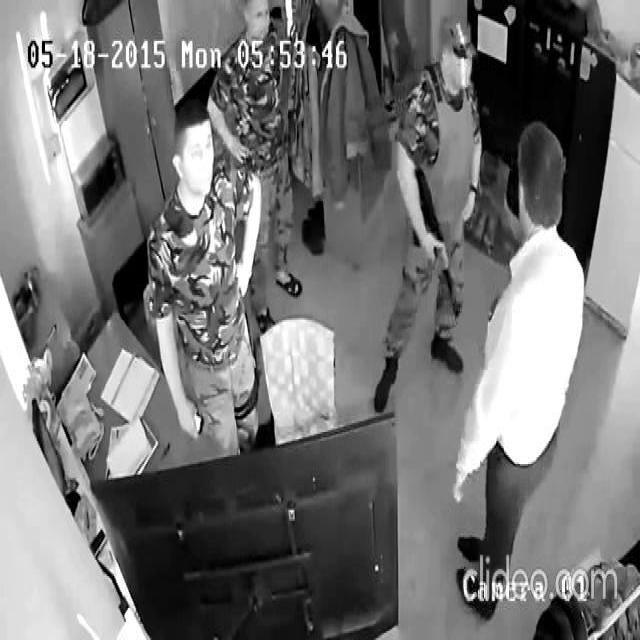pistol: (408, 159, 464, 321)
